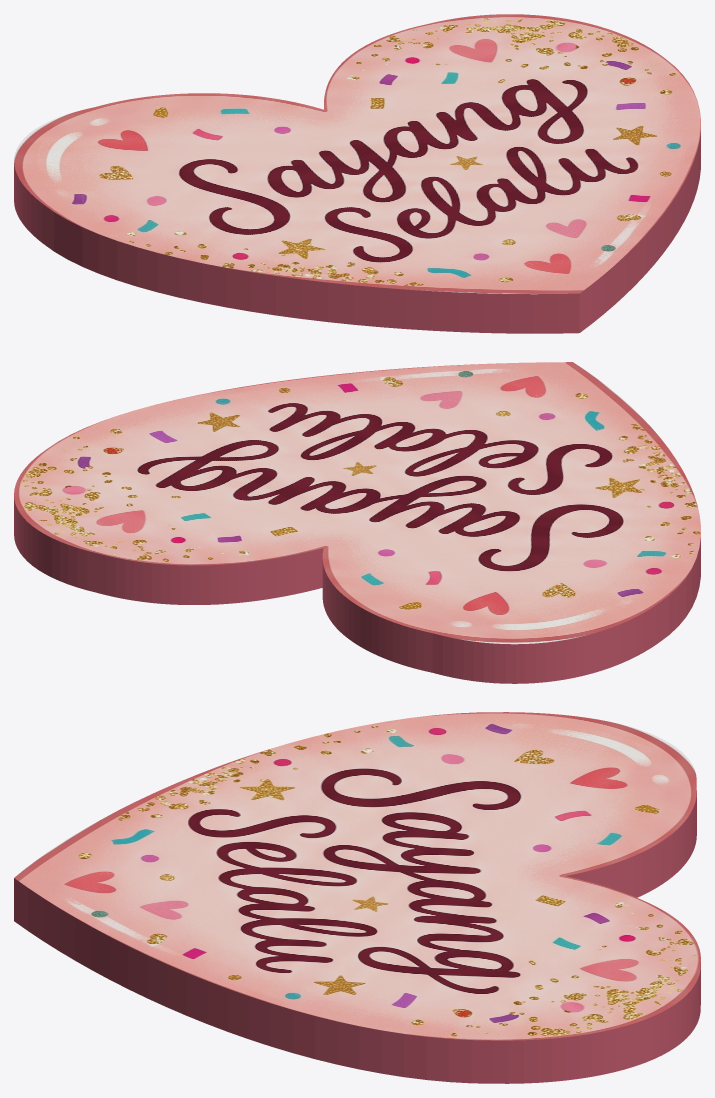
File: lab-b2.glb
3 views of the same model, one above another, from view 1: azimuth 30°, elevation 25°; view 2: azimuth 150°, elevation 25°; view 3: azimuth 270°, elevation 25° (orthographic). The views are drawn at different scales.
Visible parts, largest first — view 1: Sayang Selalu Heart; view 2: Sayang Selalu Heart; view 3: Sayang Selalu Heart.
Part boxes in pixels (bbox=[...]): Sayang Selalu Heart: bbox=[14, 14, 700, 333]; Sayang Selalu Heart: bbox=[14, 362, 700, 683]; Sayang Selalu Heart: bbox=[14, 712, 700, 1083].
Size of the model in its own units: 1.95 by 0.12 by 1.73.
Materials: 2 (1 with a texture image).
